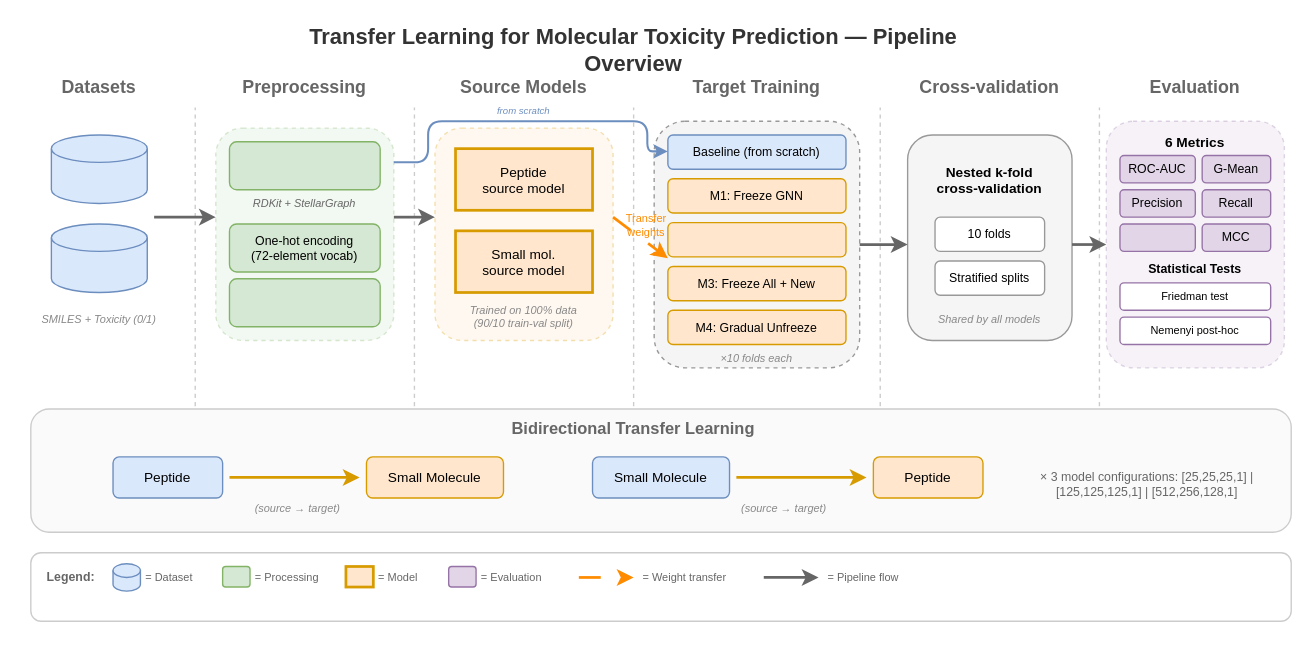
The diagram is 1315 pixels wide and 645 high, and some of its shapes have lost their labels. Grey dashed boxes stand in for pictures. The shapes that lost their labels are listed below. From the top down, each one's centre as x and y in pixels, then its label:
point (98, 168): Peptide dataset
point (304, 165): SMILES → Graph
point (98, 257): Small mol. dataset
point (756, 239): M2: Freeze Readout
point (1157, 237): F1
point (304, 302): 10-Fold CV splits generation
